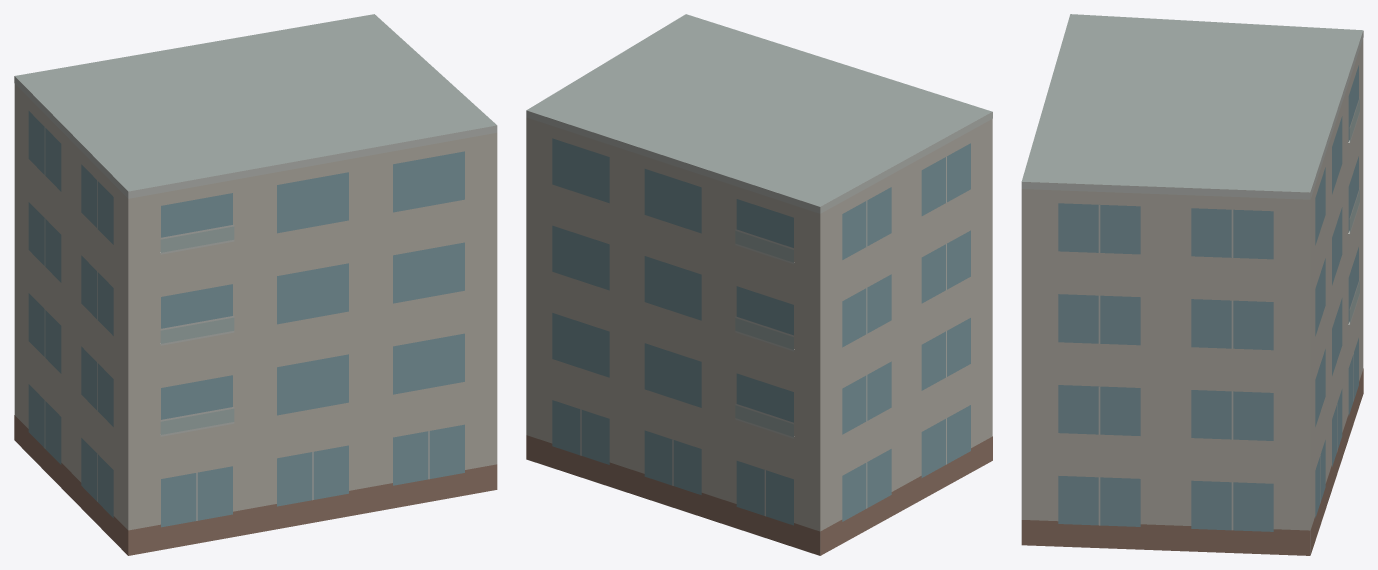
Rendered from survey-upis-32802499.glb.
3 renders of one model, left to right at view 1: azimuth 30°, elevation 25°; view 2: azimuth 150°, elevation 25°; view 3: azimuth 270°, elevation 25°, orthographic. The views are drawn at different scales.
Parts seen in each view (by area): view 1: survey-upis-32802499.tmp; view 2: survey-upis-32802499.tmp; view 3: survey-upis-32802499.tmp.
Boxes of the visible parts, x1,y1,x2,y2 form: survey-upis-32802499.tmp: [14, 14, 497, 555]; survey-upis-32802499.tmp: [526, 14, 992, 555]; survey-upis-32802499.tmp: [1021, 14, 1363, 555].
Size of the model in its own units: 12.86 by 12.2 by 10.41.
